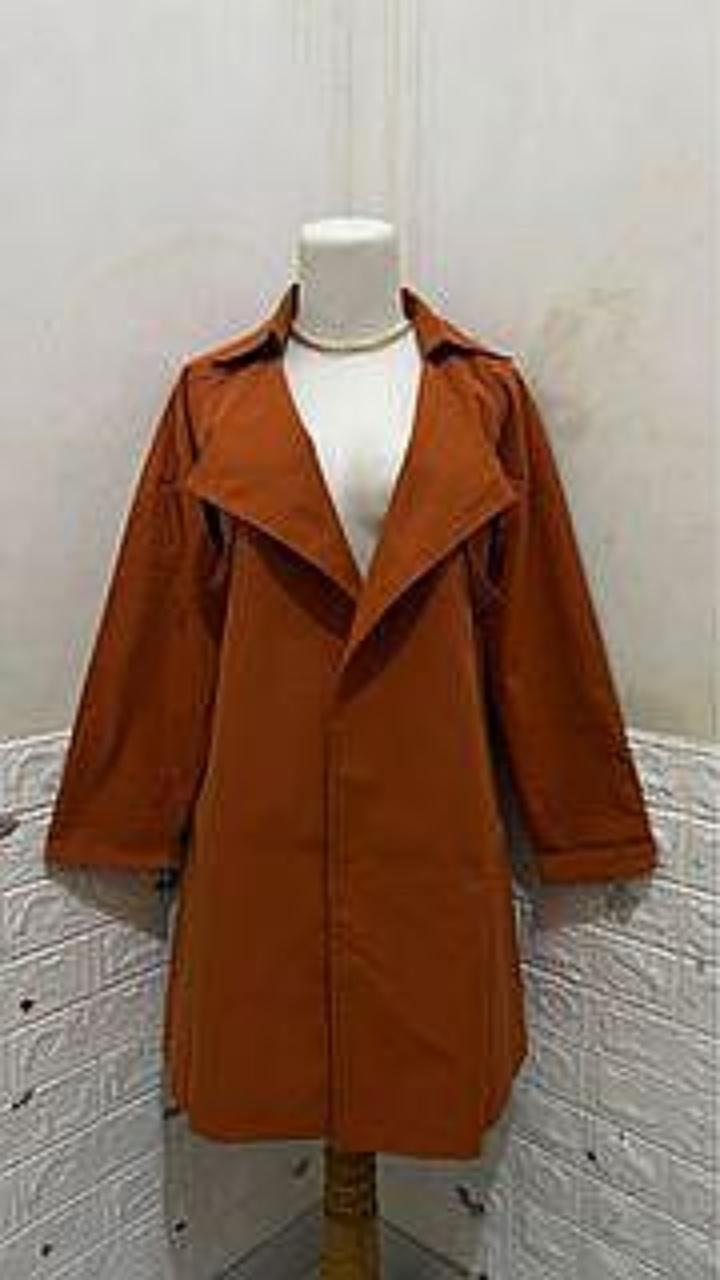Coat: (45, 282, 656, 1156)
